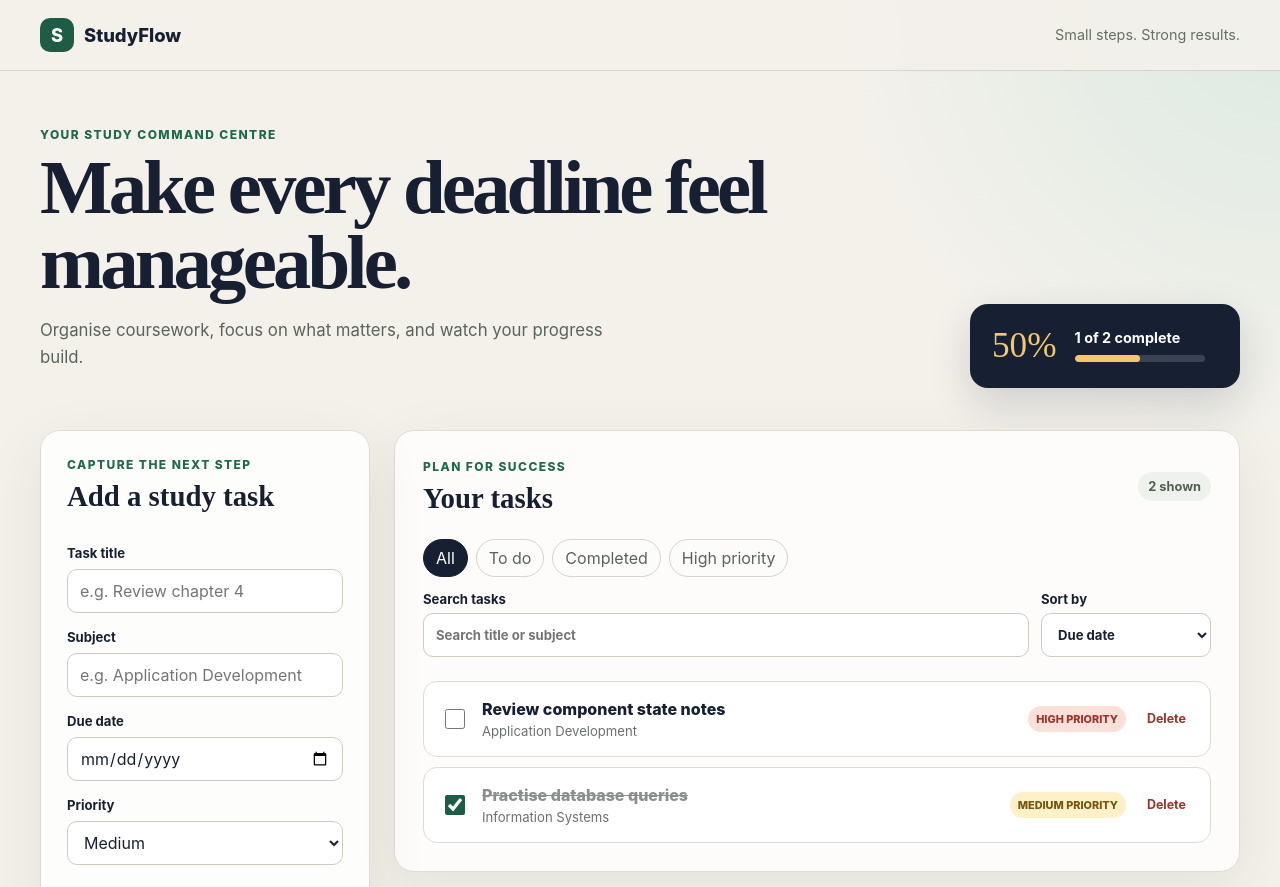
it: StudyFlow › adds, completes, filters, and deletes a task
The image size is (1280, 887).
Step 1. Type "Prepare presentation" into the field labelled "Task title" → [205, 591], box [67, 569, 343, 613]
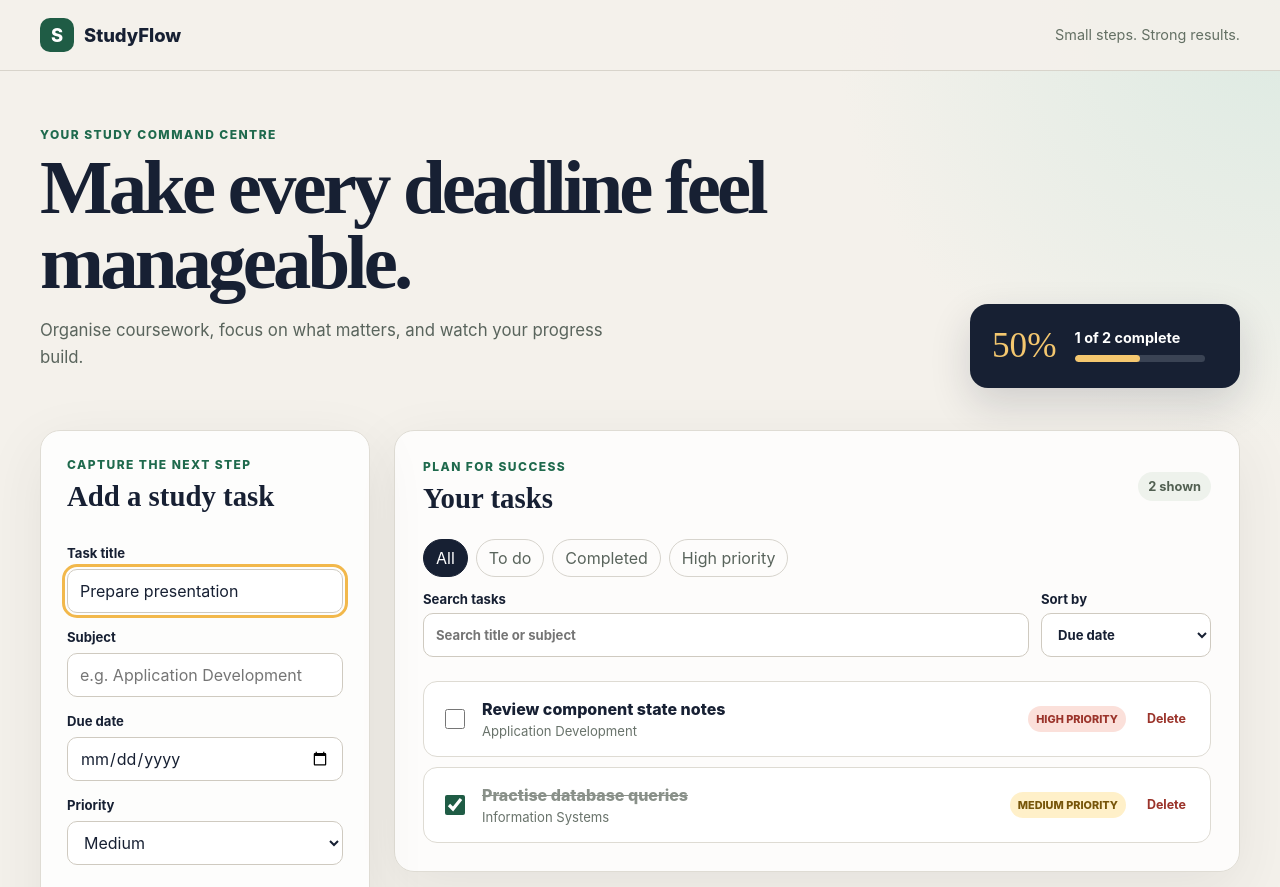
Step 2. Type "Application Development" into the field labelled "Subject" → [205, 675], box [67, 653, 343, 697]
(page scrolled)
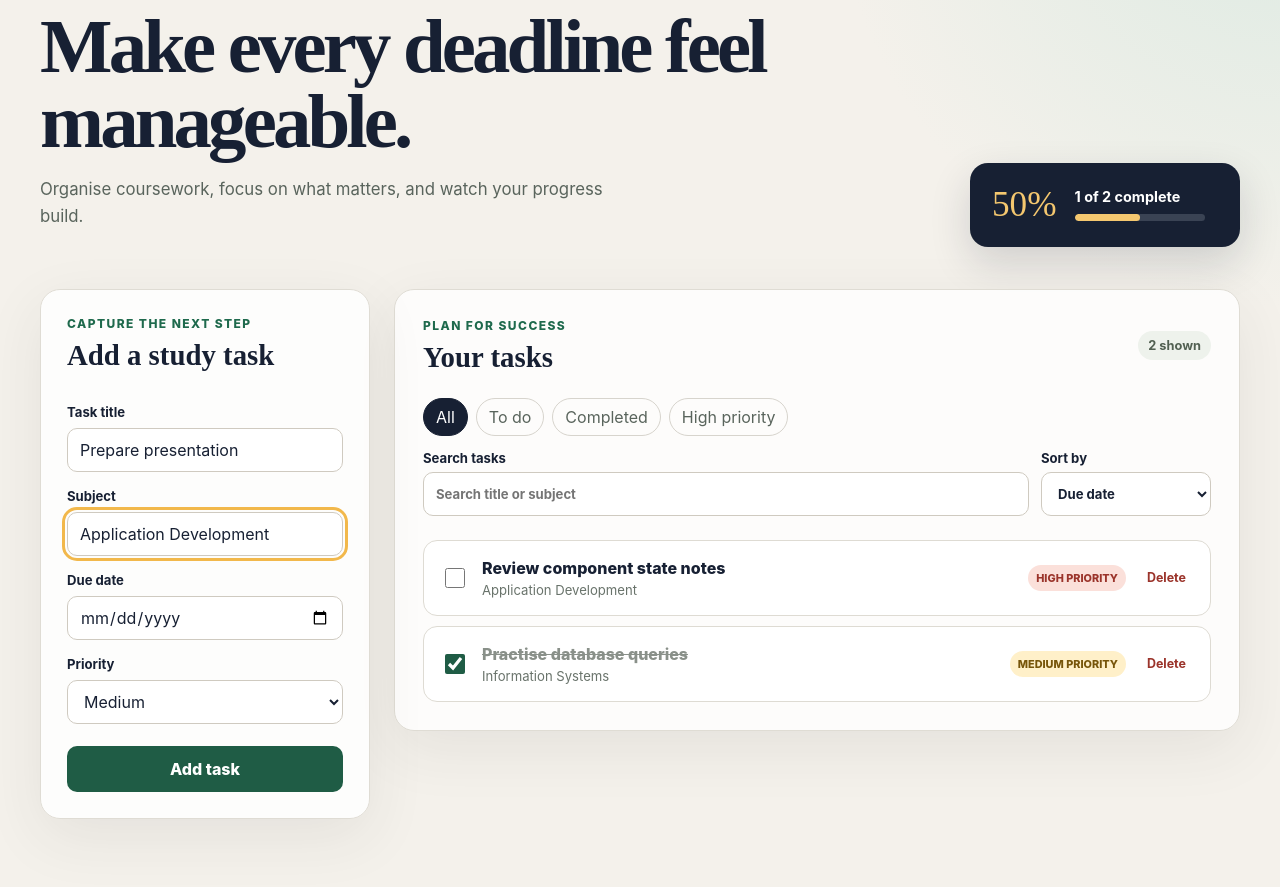
Step 3. Click the button "Add task" → [205, 769], box [67, 746, 343, 792]
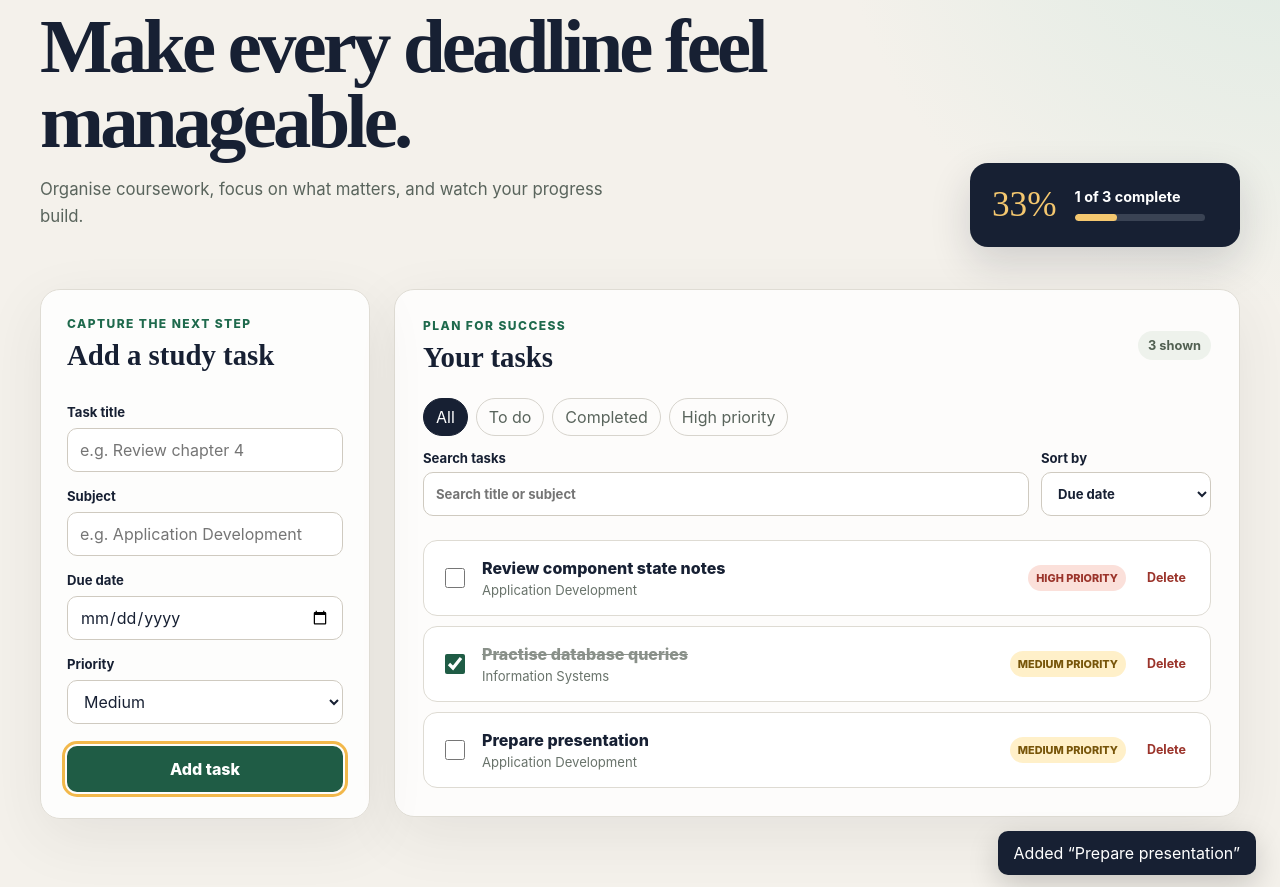
Check: the text "Prepare presentation" is shown, box [482, 730, 649, 750]
Step 4. Click the checkbox labelled "Prepare presentation Application Development" → [455, 750], box [445, 740, 465, 760]
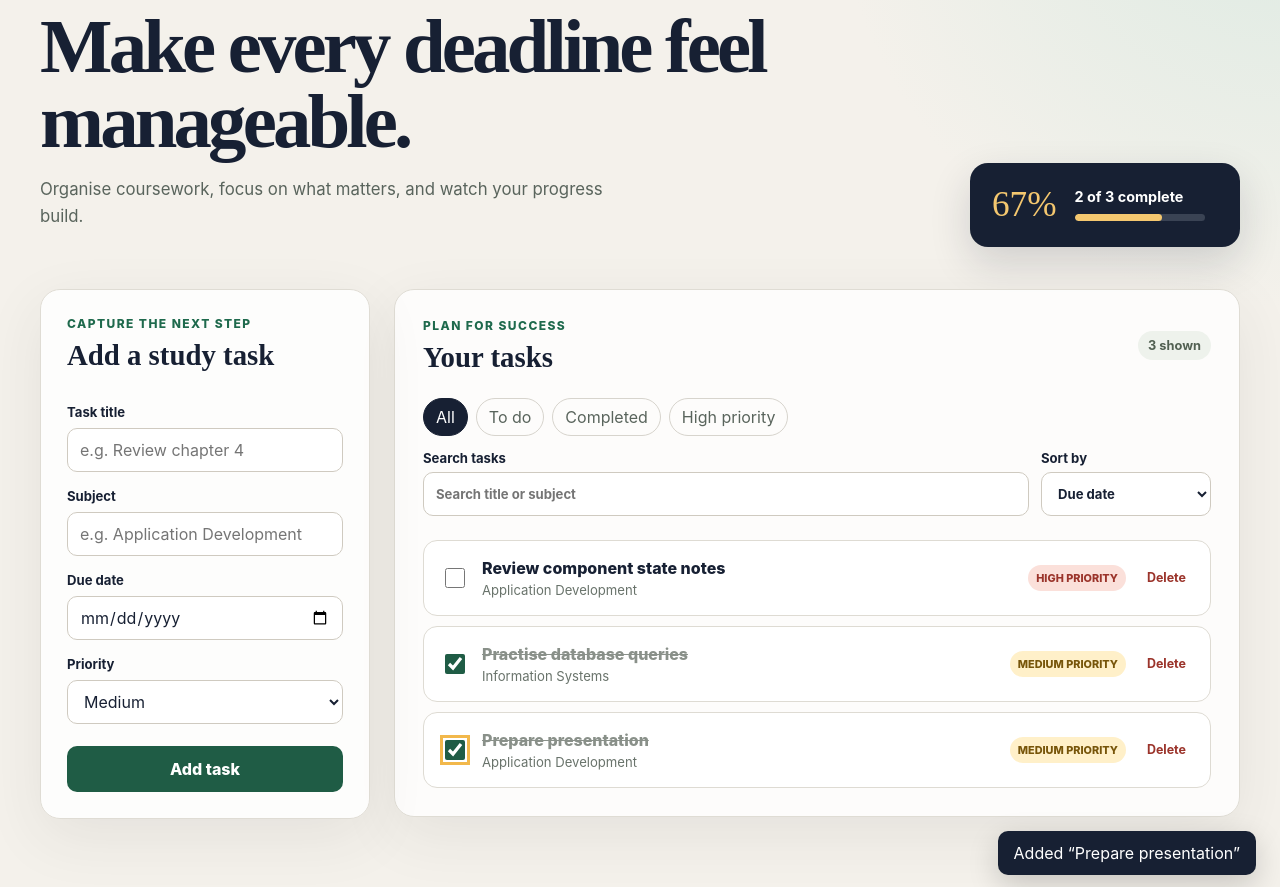
Step 5. Click the button "Completed" → [607, 417], box [552, 398, 661, 436]
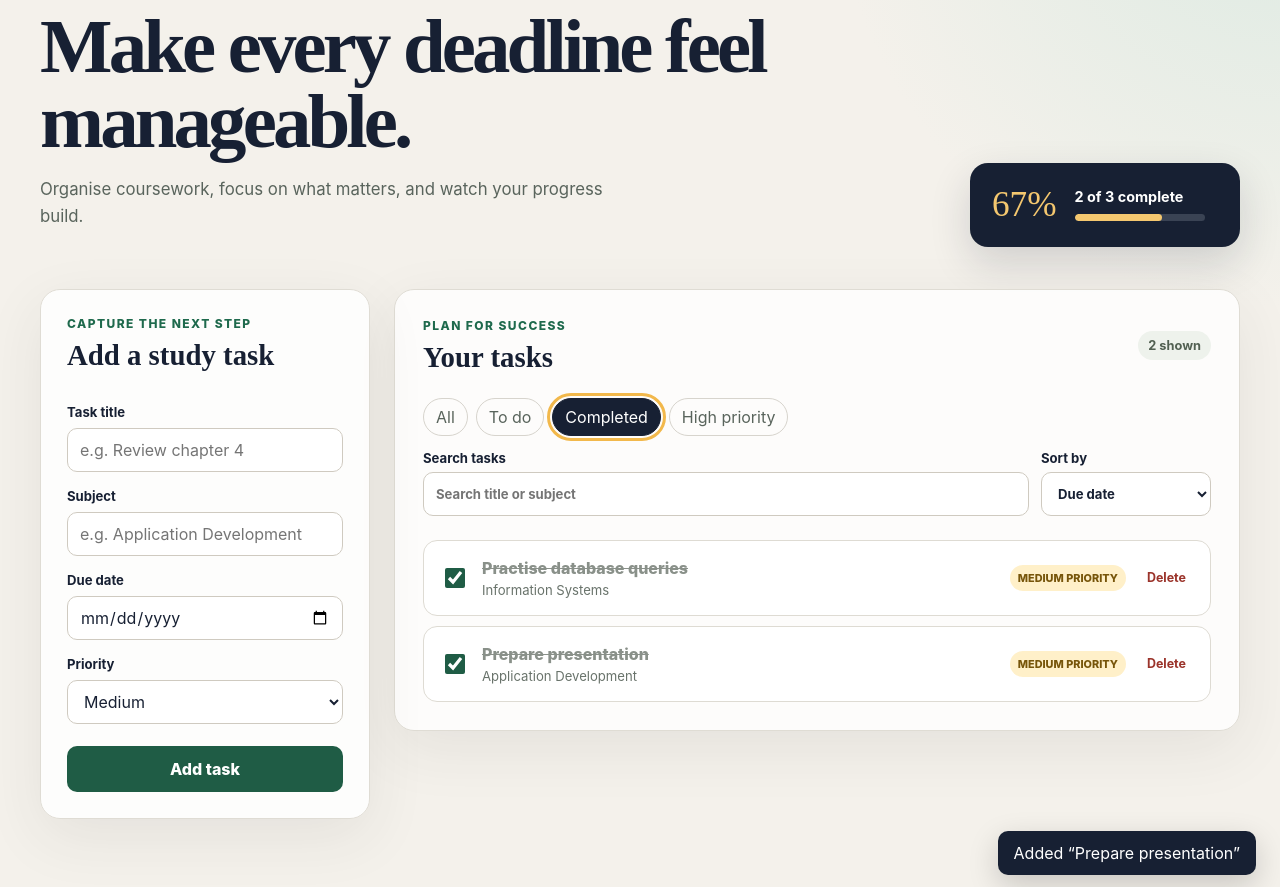
Check: the text "Prepare presentation" is shown, box [482, 644, 649, 664]
Step 6. Click the button with aria-label "Delete Prepare presentation" → [1166, 664], box [1140, 649, 1193, 678]
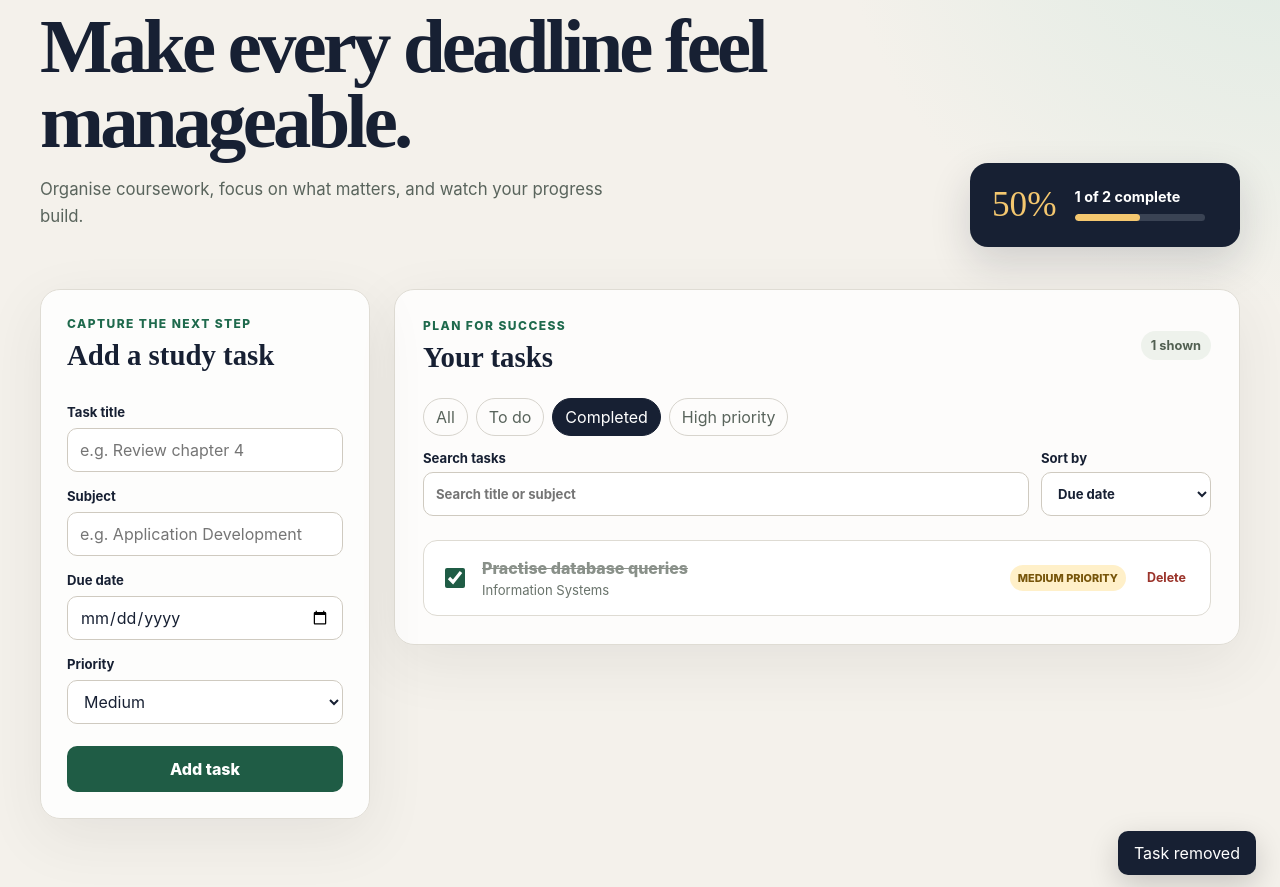
Check: the text "Prepare presentation" is gone
